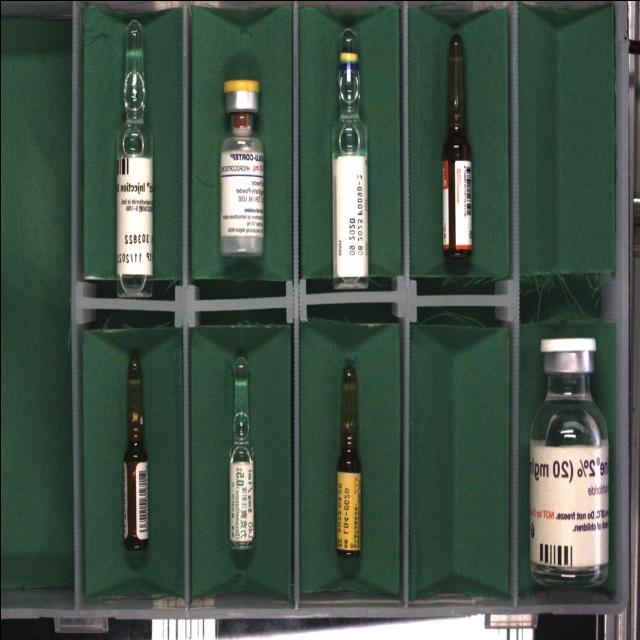Vials: (529, 335, 609, 587), (220, 78, 263, 256)
